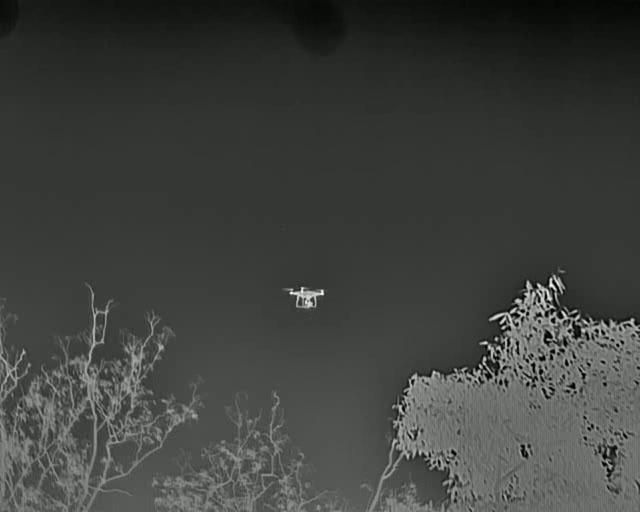DJI-Phantom: (280, 284, 333, 314)
